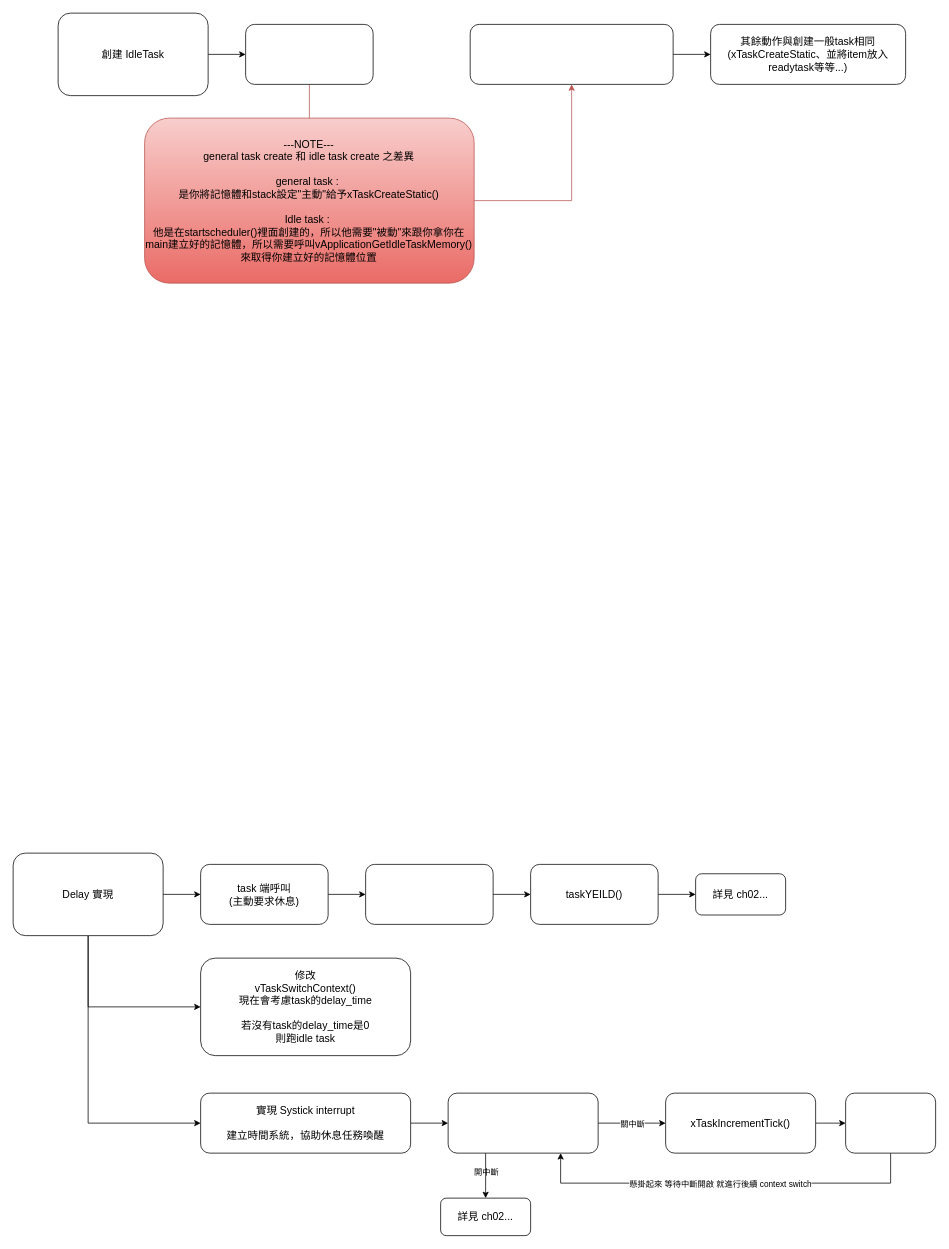
This 949x1249 diagram has some shape labels left out. The shapes that lost their labels are listed below. From the top down, each one's box as (x1, y1, x2, y2) in pixels, then its label:
(245, 24, 373, 84): 在start_scheduler 創建 IdleTask
(469, 24, 673, 84): vApplicationGetIdleTaskMemory()
(365, 864, 493, 924): vTaskDelay()
(447, 1092, 598, 1153): xPortSysTickHandler()
(845, 1092, 936, 1153): portYEILD()
